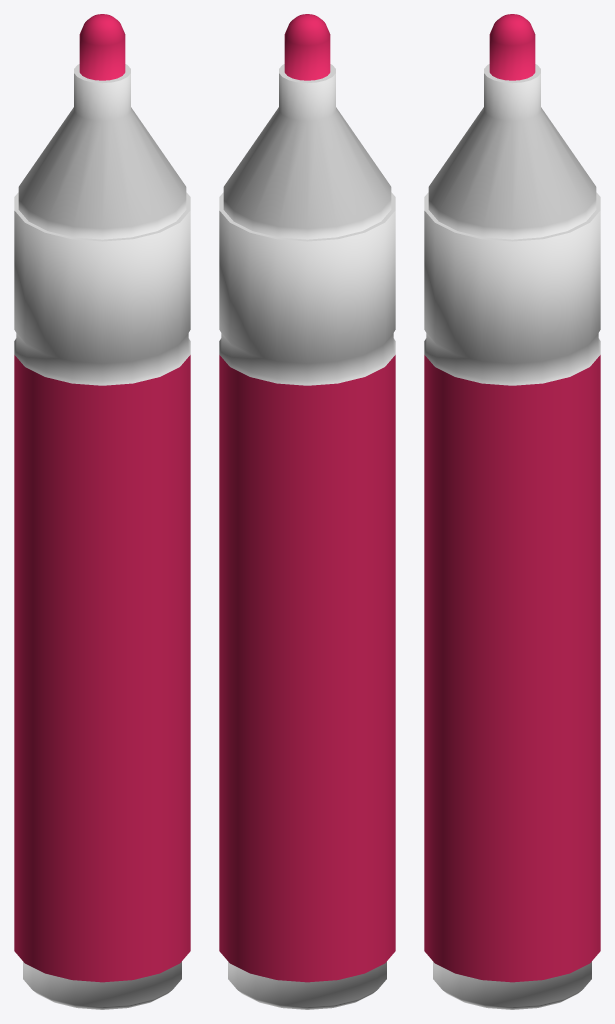
The model's file is marker3.fbx.
The picture shows the model from 3 angles, left to right: view 1: azimuth 30°, elevation 25°; view 2: azimuth 150°, elevation 25°; view 3: azimuth 270°, elevation 25°; orthographic projection.
Visible parts, largest first — view 1: Marker; view 2: Marker; view 3: Marker.
Boxes of the visible parts, x1=… form: Marker: x1=14, y1=14, x2=190, y2=1009; Marker: x1=219, y1=14, x2=395, y2=1009; Marker: x1=424, y1=14, x2=600, y2=1009.
Bounding box in the file's own units: 15.24 × 90.32 × 15.01.
